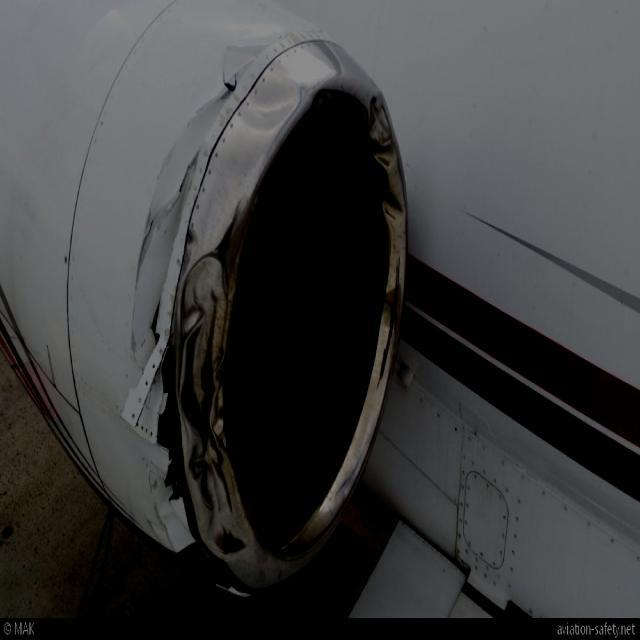dent: (168, 262, 257, 561), (197, 153, 263, 244), (242, 70, 304, 136), (371, 94, 396, 170), (384, 175, 407, 224)
